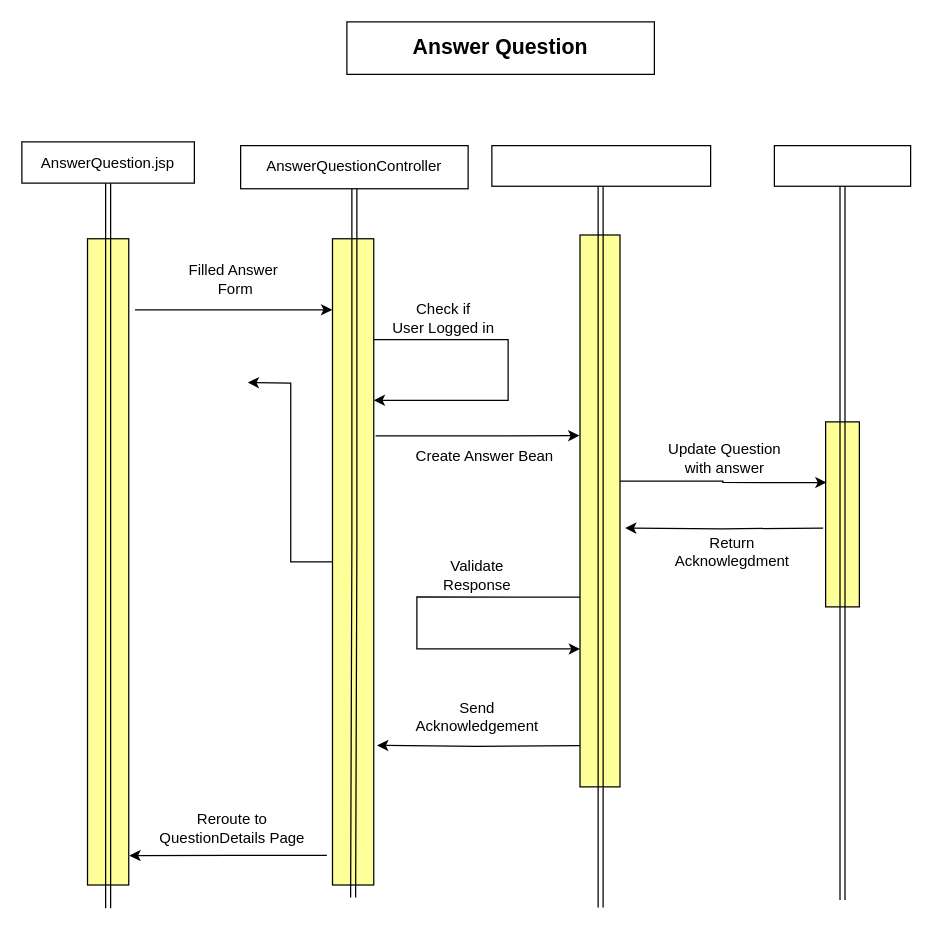
Some shapes in this 933 by 930 pixel diagram are drawn without their labels. The centre of each missing label's shape, as x and y in pixels:
"AnswerQuestionService" goes at (x=601, y=165).
"QuestionDAO" goes at (x=842, y=165).
